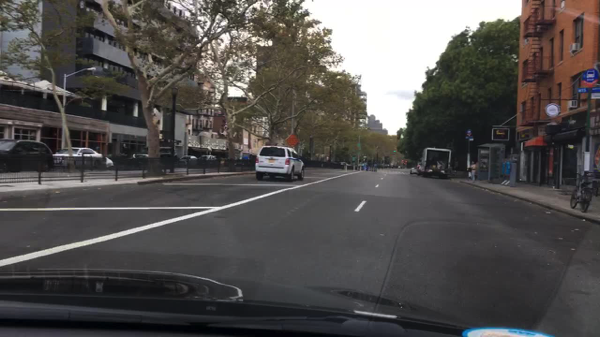bike: (565, 170, 593, 214)
car: (0, 137, 56, 174), (253, 145, 306, 182), (52, 146, 114, 170), (199, 154, 216, 161), (181, 155, 198, 162), (408, 166, 419, 175), (131, 154, 150, 159)
traffic sign: (581, 69, 599, 88), (286, 133, 301, 147), (588, 88, 599, 100), (577, 88, 587, 101), (465, 130, 471, 137), (357, 142, 361, 147), (469, 138, 474, 141)
truck: (417, 147, 452, 179)
